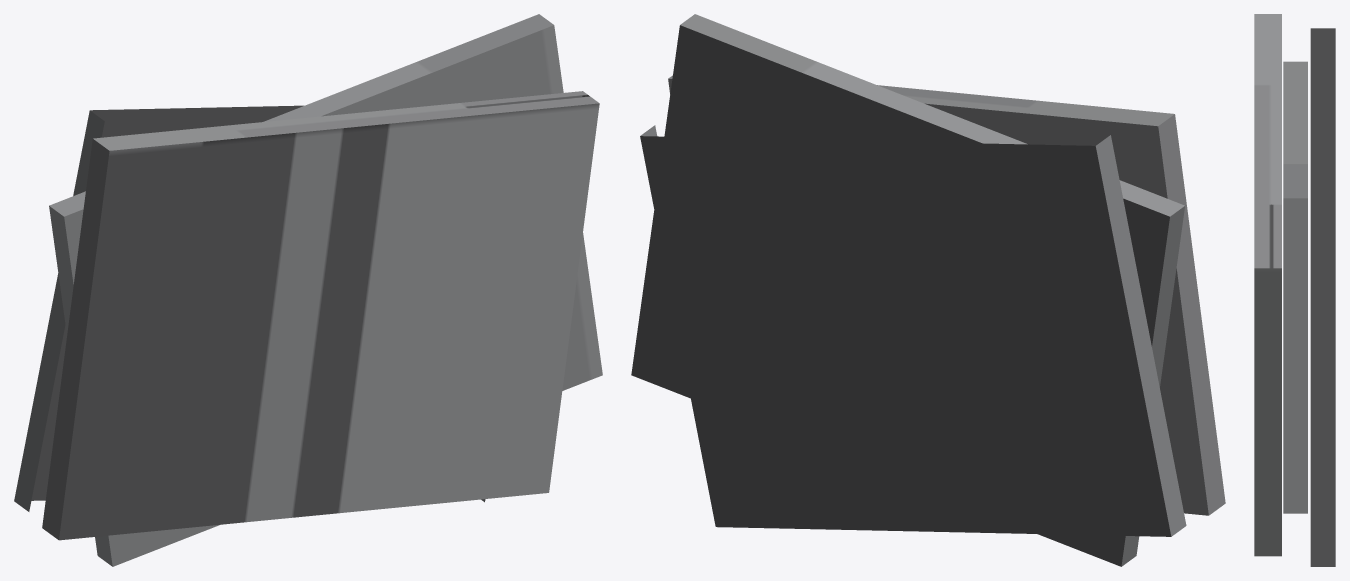
3 renders of one model, left to right at view 1: azimuth 30°, elevation 25°; view 2: azimuth 150°, elevation 25°; view 3: azimuth 270°, elevation 25°, orthographic. The views are drawn at different scales.
Bounding box in the file's own units: 0.3549 × 0.288 × 0.0543.
